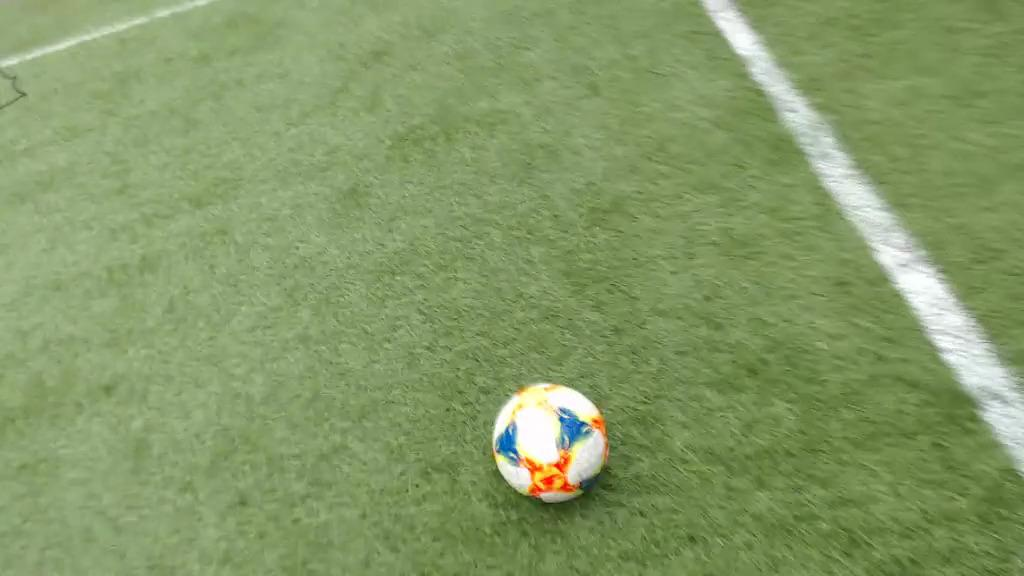ball: (494, 379, 608, 506)
